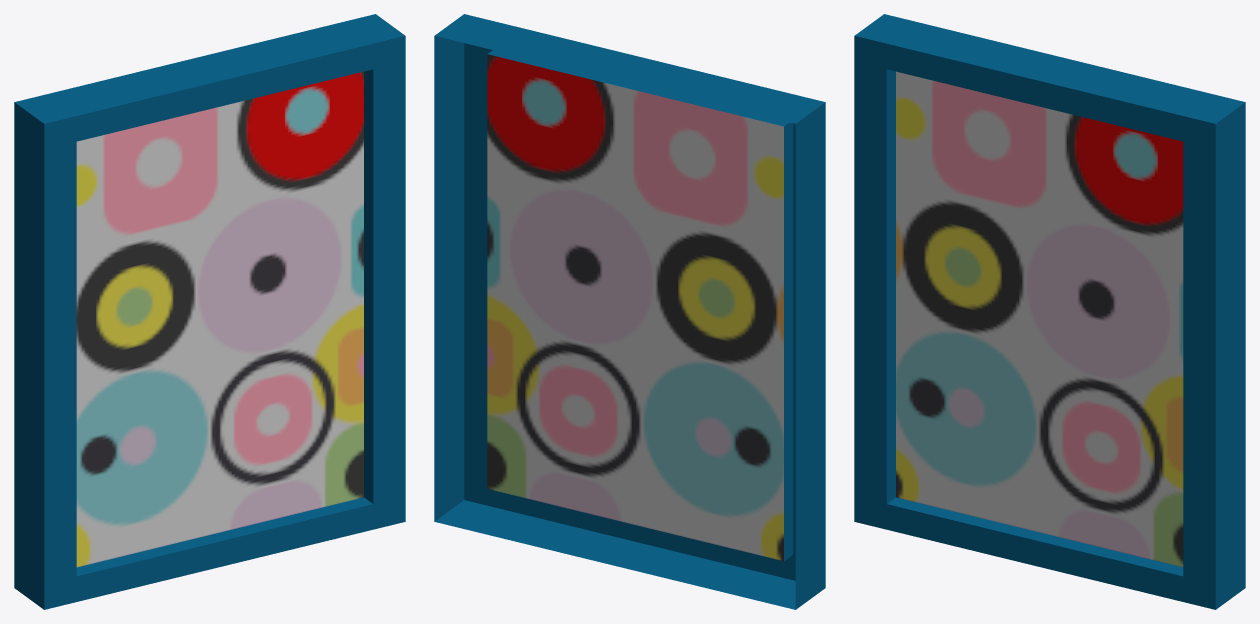
Rendered from Wall Picture.fbx.
3 renders of one model, left to right at view 1: azimuth 30°, elevation 25°; view 2: azimuth 150°, elevation 25°; view 3: azimuth 330°, elevation 25°, orthographic.
Parts seen in each view (by area): view 1: Wall Picture; view 2: Wall Picture; view 3: Wall Picture.
Part boxes in pixels (box(x1,y1,x2,y2)): Wall Picture: box(14, 14, 405, 609); Wall Picture: box(434, 14, 825, 609); Wall Picture: box(854, 14, 1245, 609).
Bounding box in the file's own units: 70 × 90 × 10.
